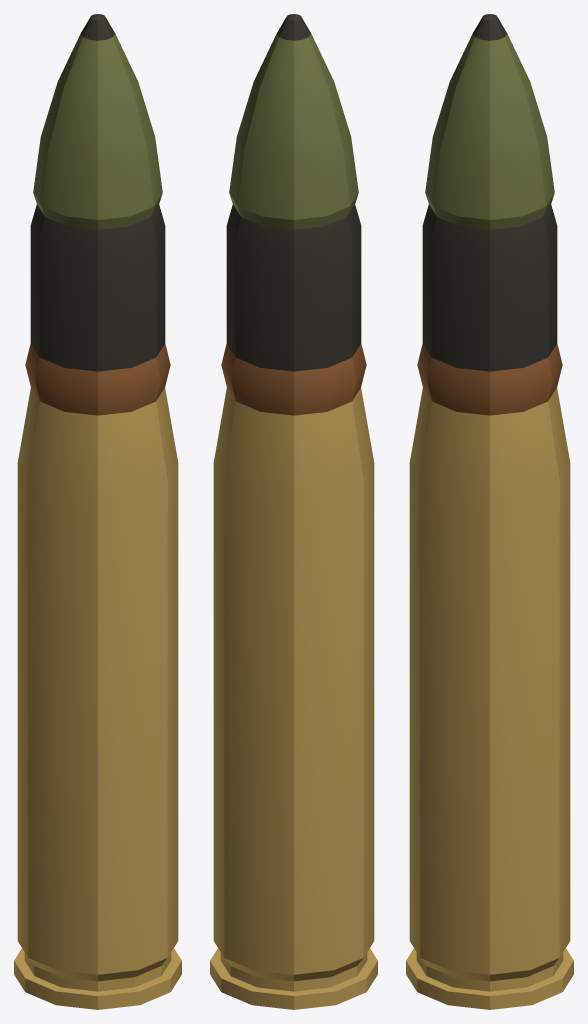
Rendered from tank_bullet.fbx.
The picture shows the model from 3 angles, left to right: view 1: azimuth 30°, elevation 25°; view 2: azimuth 150°, elevation 25°; view 3: azimuth 270°, elevation 25°; orthographic projection.
Parts seen in each view (by area): view 1: Cylinder; view 2: Cylinder; view 3: Cylinder.
Part boxes in pixels (x1,y1,x2,y2): Cylinder: (14, 14, 181, 1009); Cylinder: (210, 14, 377, 1009); Cylinder: (406, 14, 573, 1009).
Size of the model in its own units: 12.14 by 76.61 by 12.14.
Materials: 1 (1 with a texture image).
